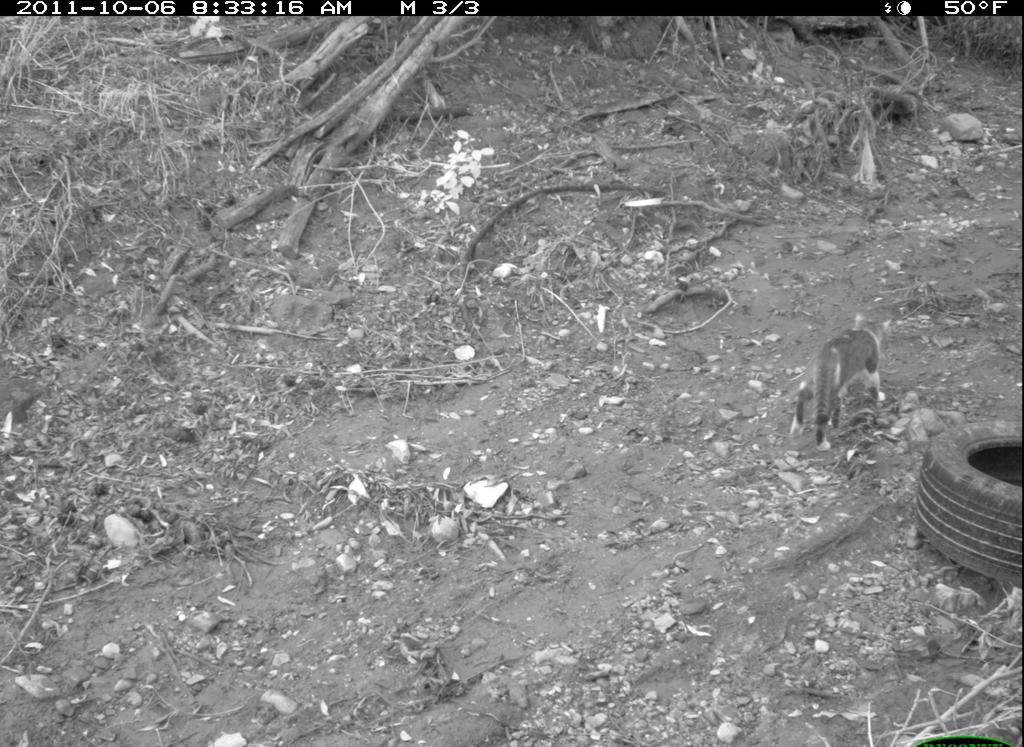cat: (786, 304, 909, 452)
